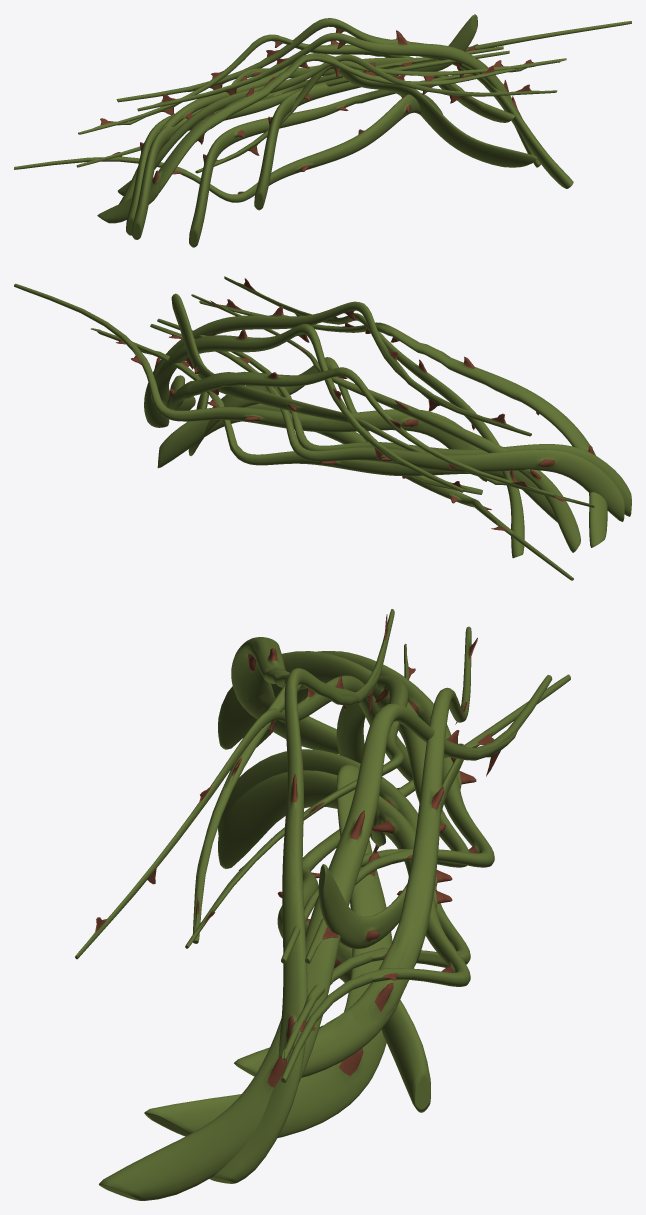
File: Thorn Bush.fbx
3 views of the same model, one above another, from view 1: azimuth 30°, elevation 25°; view 2: azimuth 150°, elevation 25°; view 3: azimuth 270°, elevation 25° (orthographic). The views are drawn at different scales.
Visible parts, largest first — view 1: polySurface16; view 2: polySurface16; view 3: polySurface16.
Boxes of the visible parts, x1,y1,x2,y2 form: polySurface16: (14,14,631,247); polySurface16: (14,276,631,580); polySurface16: (75,609,570,1200).
Bounding box in the file's own units: 33.9 × 10.1 × 13.29.
